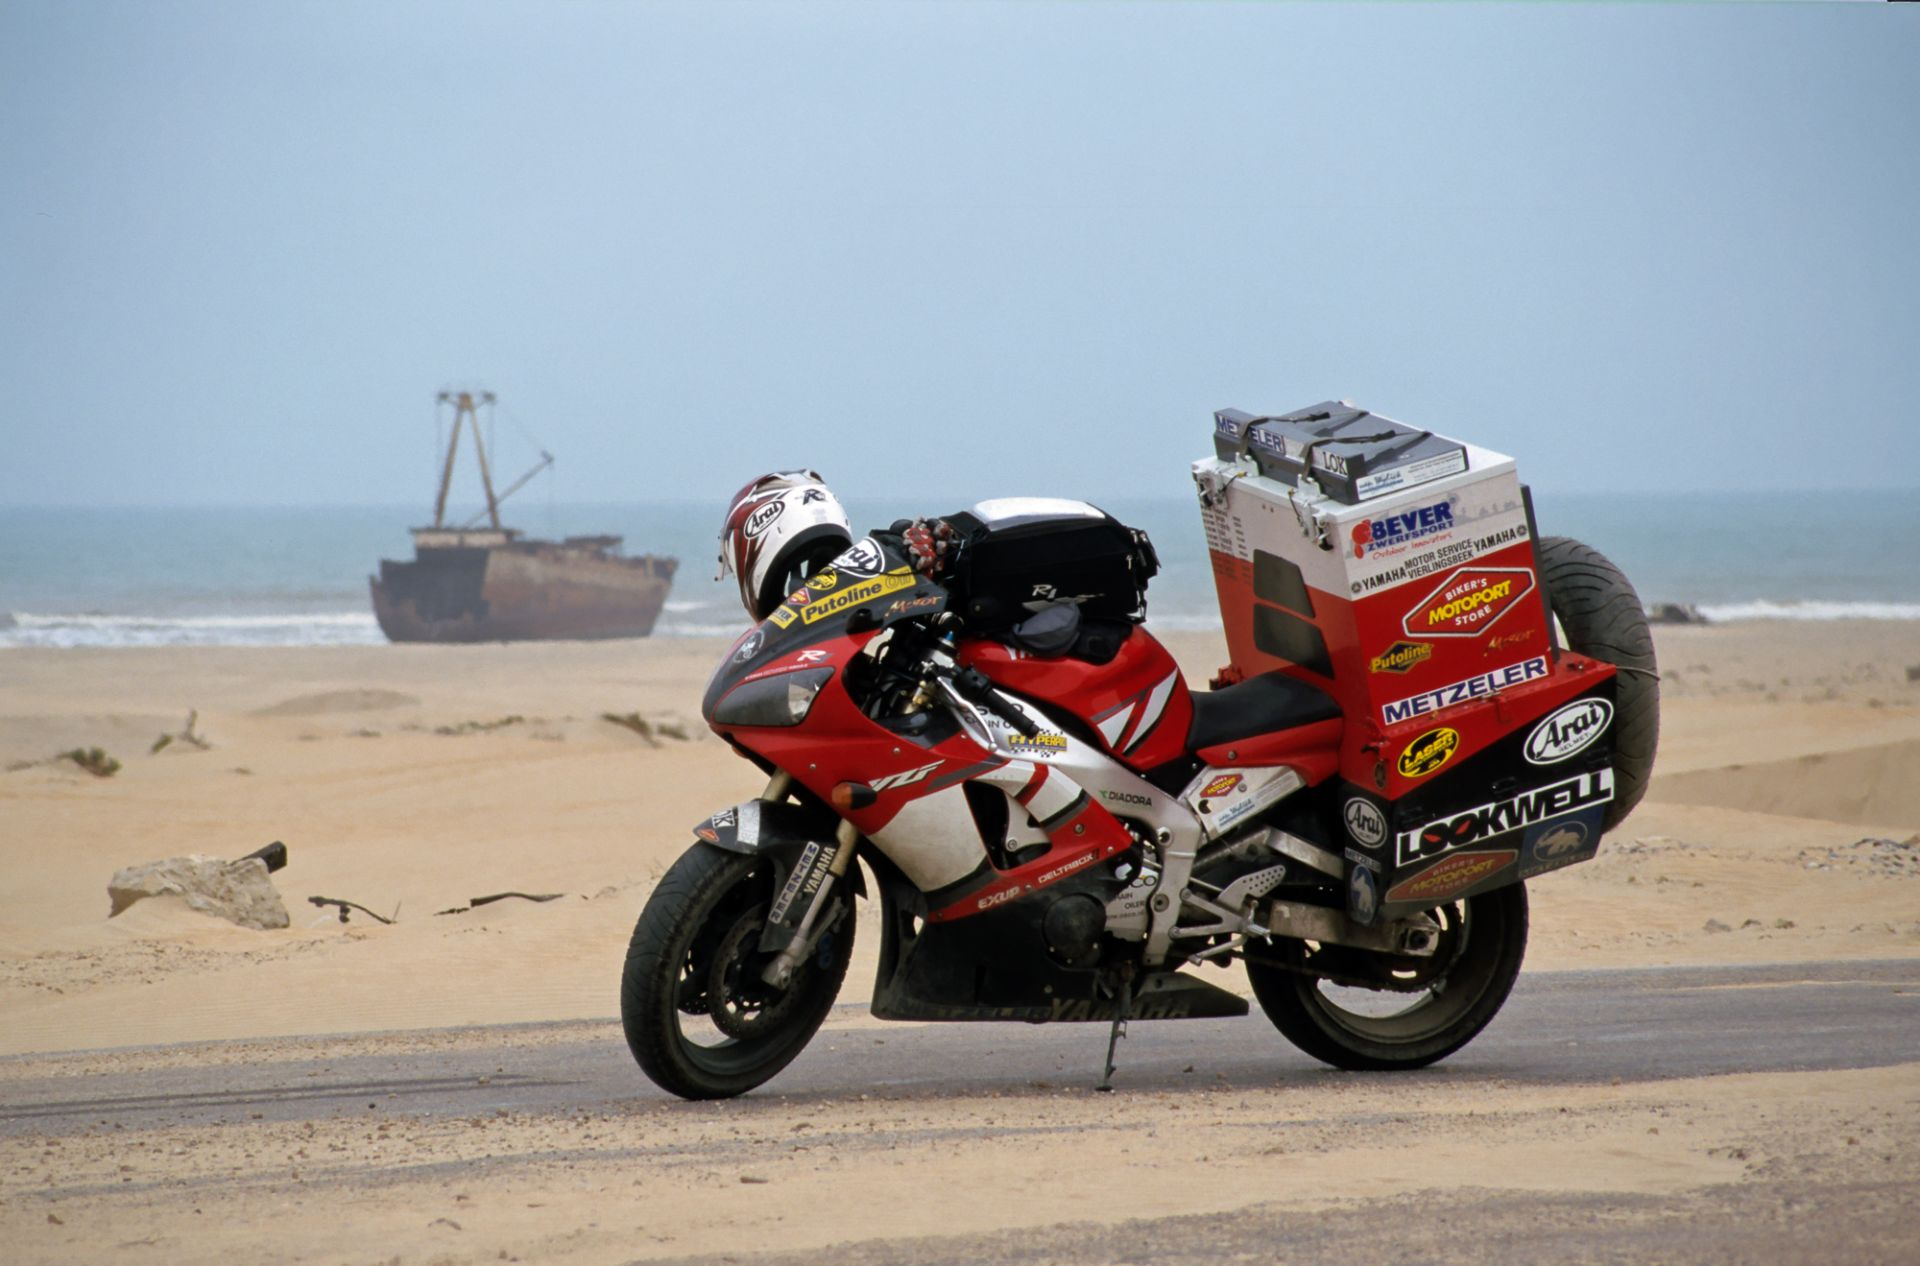motorbike: (583, 496, 1704, 1094)
